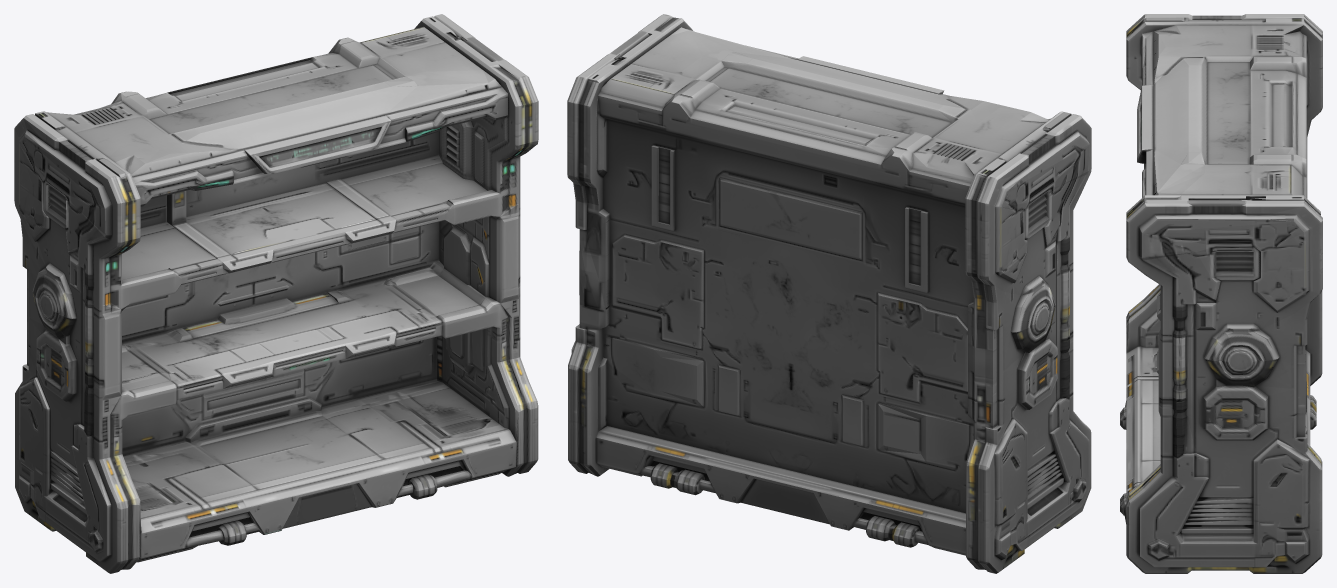
The model's file is SF_Shelf_Mesh.fbx.
3 renders of one model, left to right at view 1: azimuth 30°, elevation 25°; view 2: azimuth 150°, elevation 25°; view 3: azimuth 270°, elevation 25°, orthographic. The views are drawn at different scales.
Visible parts, largest first — view 1: world; view 2: world; view 3: world.
Boxes of the visible parts, x1,y1,x2,y2 form: world: [14, 14, 538, 573]; world: [567, 14, 1091, 573]; world: [1120, 14, 1322, 573].
Bounding box in the file's own units: 100 × 85.64 × 42.43.
